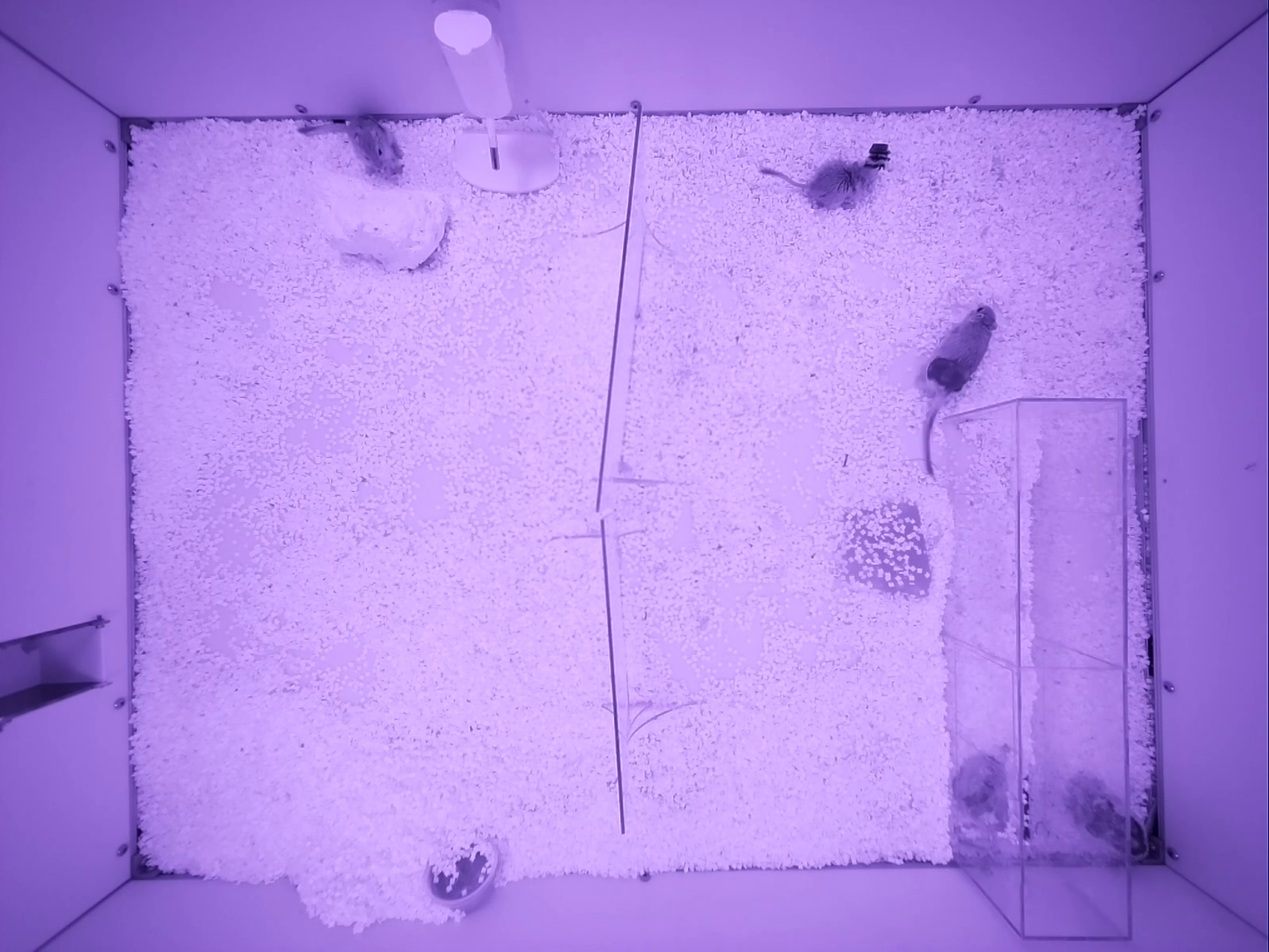adult_back: (923, 305, 995, 474), (759, 144, 888, 209), (1064, 771, 1148, 862), (300, 115, 402, 181)
